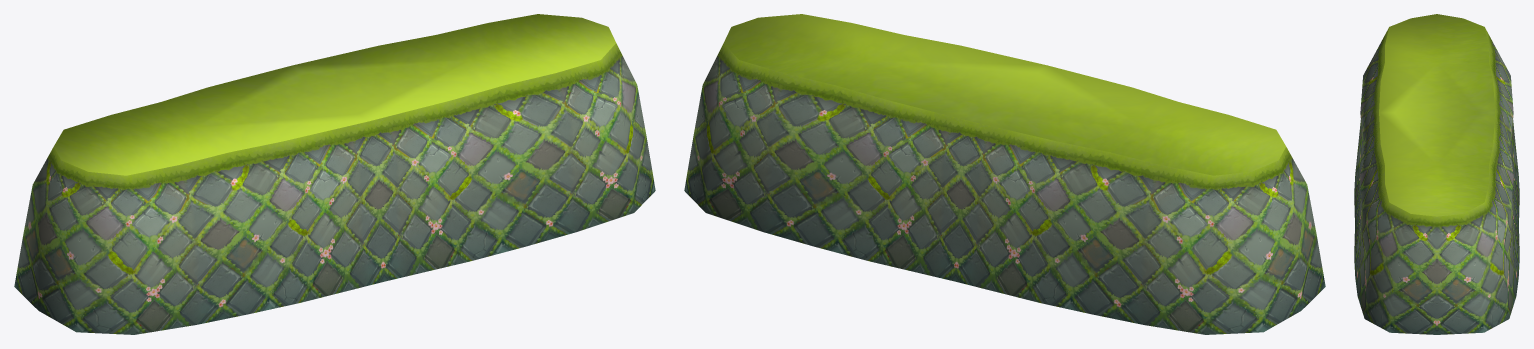
Rendered from CBS_Ground_CheckWall.FBX.
3 renders of one model, left to right at view 1: azimuth 30°, elevation 25°; view 2: azimuth 150°, elevation 25°; view 3: azimuth 270°, elevation 25°, orthographic. The views are drawn at different scales.
Parts seen in each view (by area): view 1: CBS_Ground_CheckWall; view 2: CBS_Ground_CheckWall; view 3: CBS_Ground_CheckWall.
Boxes of the visible parts, x1=… form: CBS_Ground_CheckWall: x1=14, y1=14, x2=655, y2=334; CBS_Ground_CheckWall: x1=684, y1=14, x2=1325, y2=334; CBS_Ground_CheckWall: x1=1354, y1=14, x2=1519, y2=334.
Size of the model in its own units: 1206 by 289 by 384.
